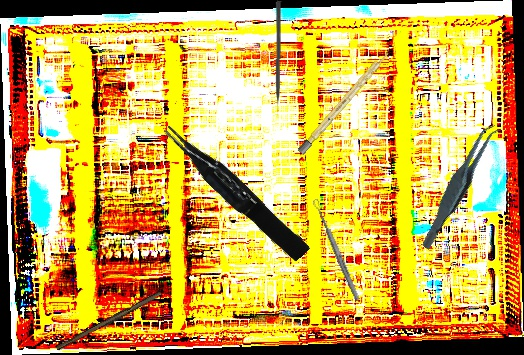Pusher: (273, 0, 282, 118)
Scalpel Handle: (297, 47, 393, 155), (55, 288, 163, 355)
Surgical Spoon: (311, 198, 362, 302)
Tissue Forceps: (160, 114, 311, 268), (398, 121, 521, 251)
